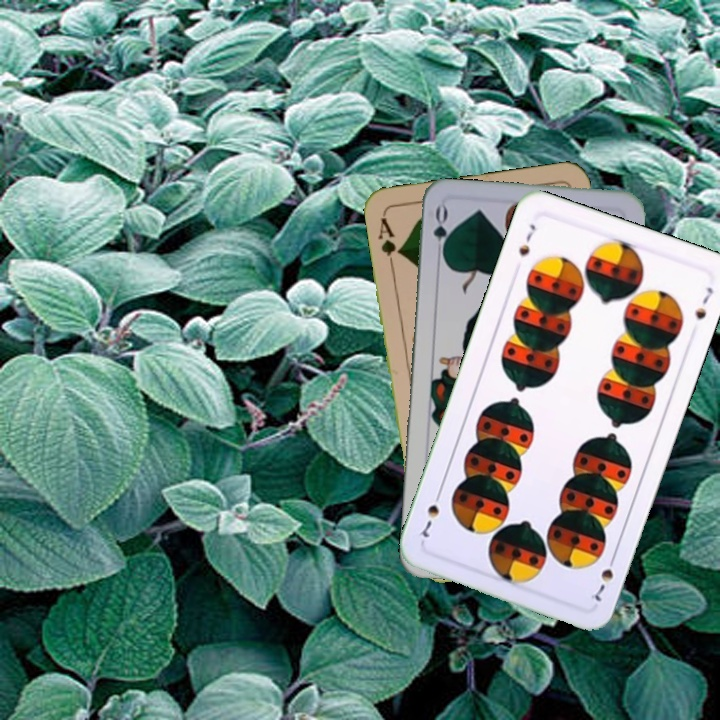GA: (374, 213, 404, 271)
GO: (429, 203, 451, 262)
S7: (586, 550, 619, 604), (514, 219, 539, 259)
